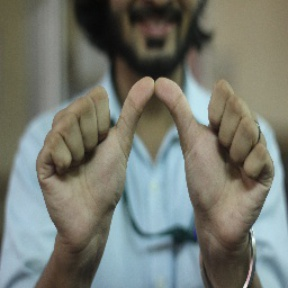A: (63, 73, 254, 200)
